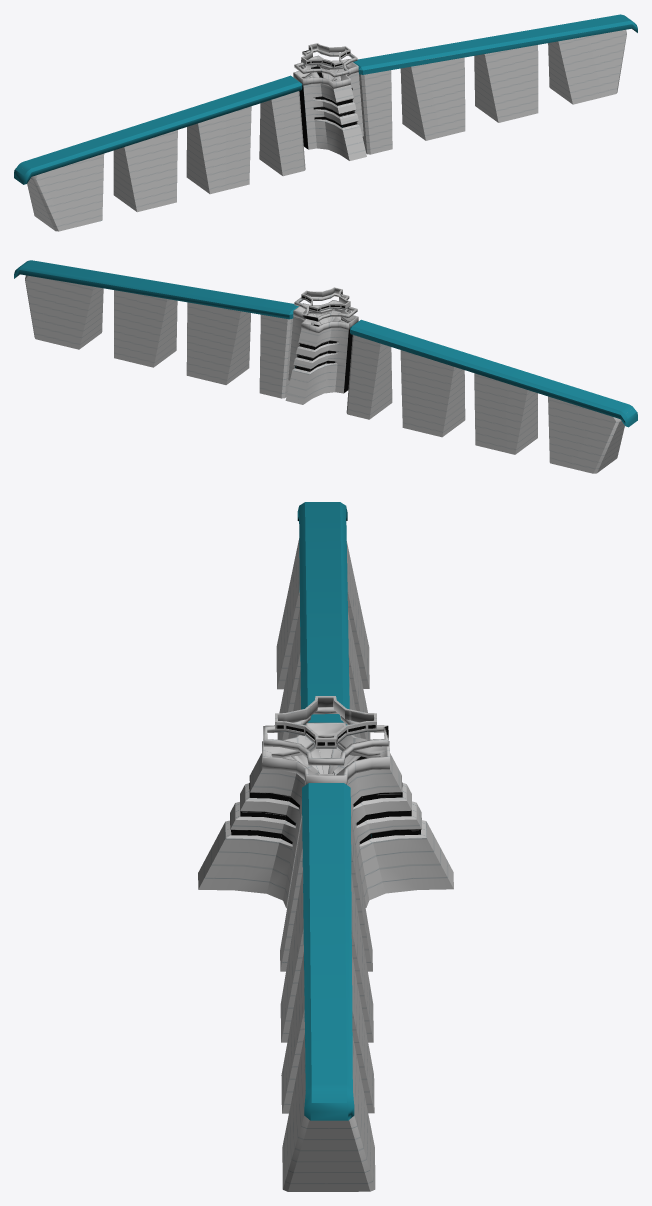
The model's file is Building_7.fbx.
3 views of the same model, one above another, from view 1: azimuth 30°, elevation 25°; view 2: azimuth 150°, elevation 25°; view 3: azimuth 270°, elevation 25° (orthographic). The views are drawn at different scales.
Visible parts, largest first — view 1: building239.002_building_metal02_0; view 2: building239.002_building_metal02_0; view 3: building239.002_building_metal02_0.
Boxes of the visible parts, <box> form: building239.002_building_metal02_0: <box>14,14,637,231</box>; building239.002_building_metal02_0: <box>14,260,637,473</box>; building239.002_building_metal02_0: <box>198,502,453,1191</box>.
Size of the model in its own units: 204 by 31.96 by 36.95.
